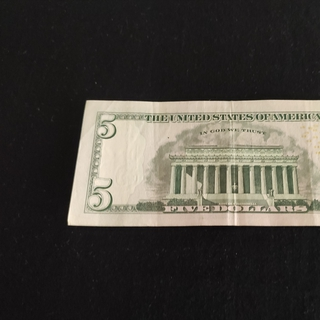5USDBack: (67, 97, 320, 227)
